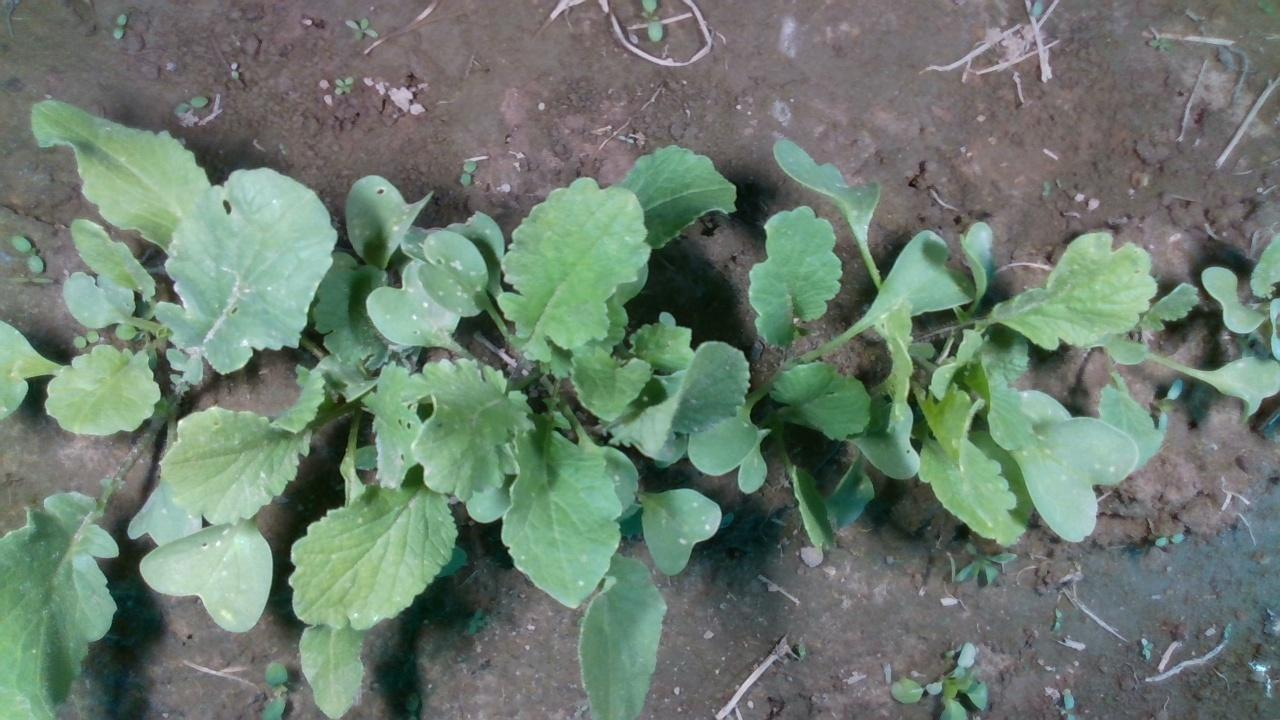weed: (8, 232, 43, 273), (343, 15, 378, 41), (169, 93, 207, 116), (457, 157, 476, 186), (71, 329, 99, 348), (111, 11, 126, 39), (333, 75, 353, 95), (5, 275, 53, 283), (228, 59, 239, 81)
